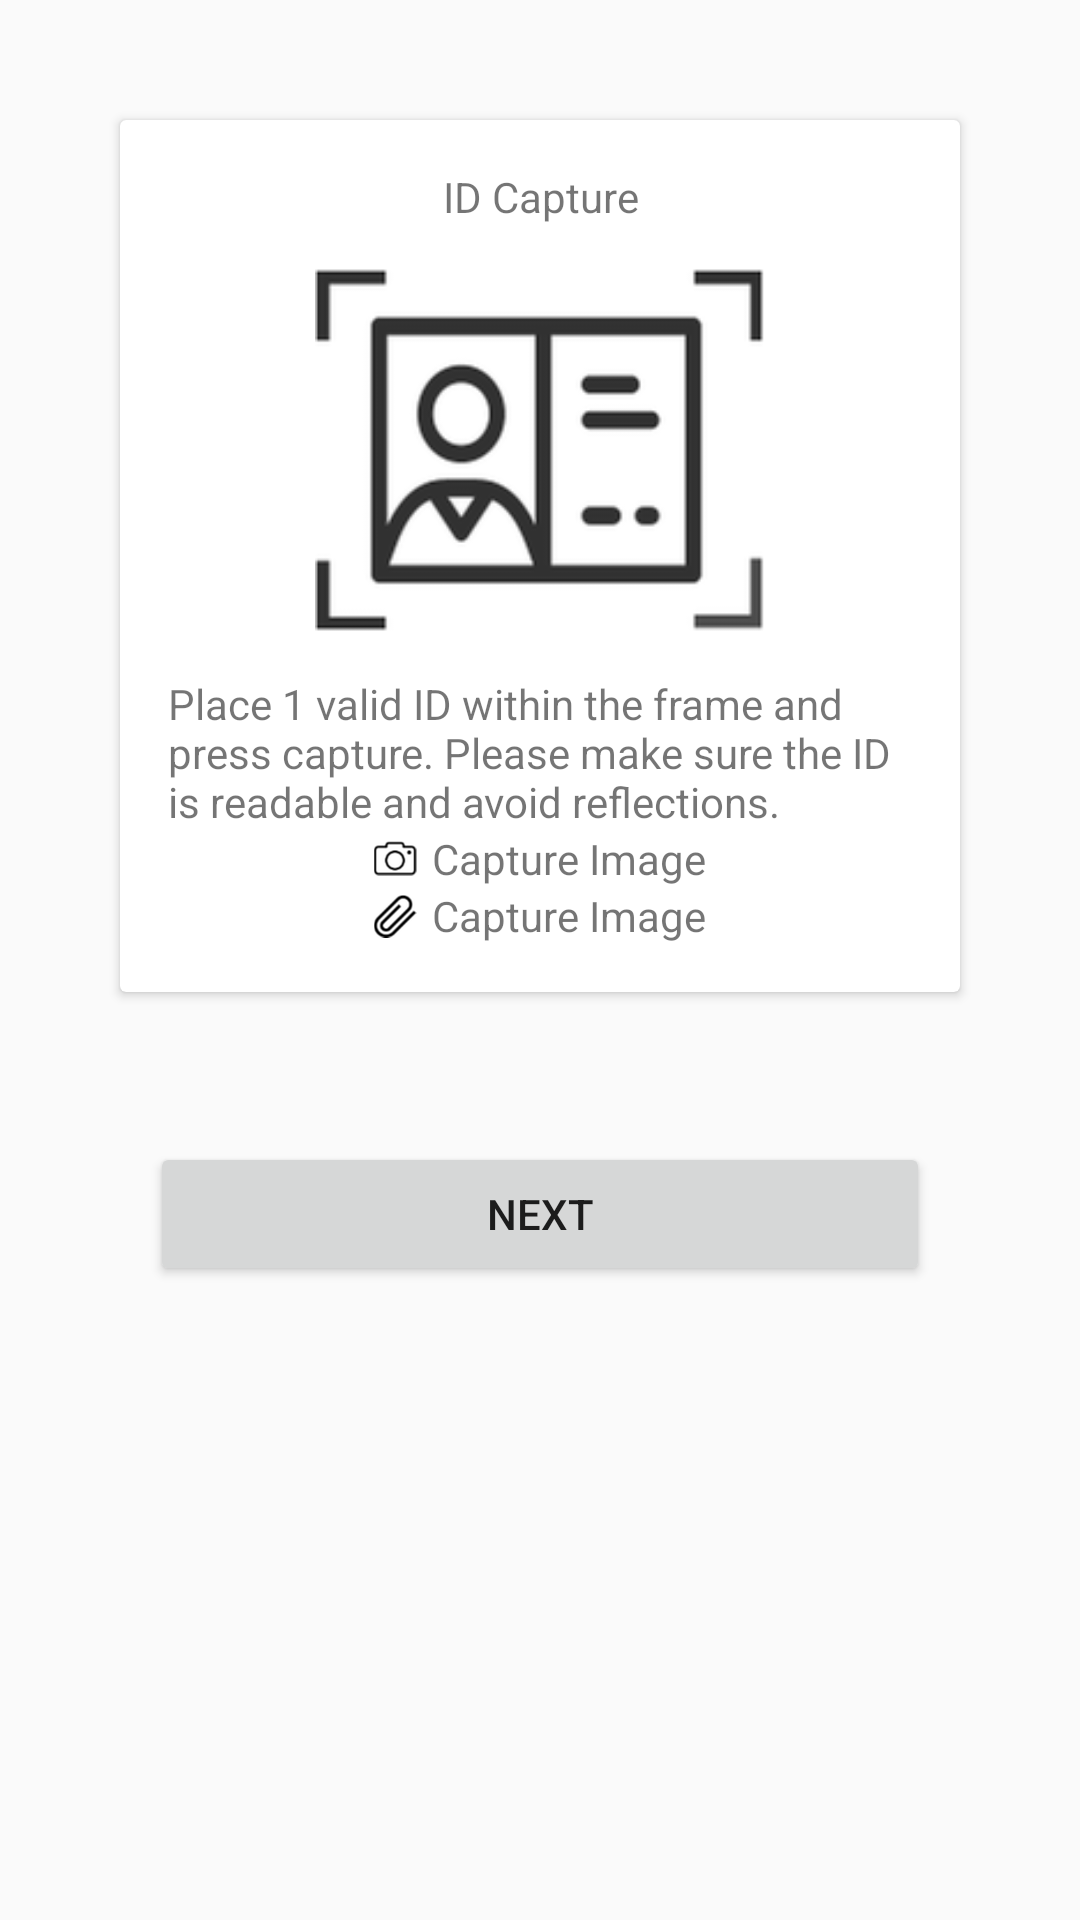

Screen size 1080px×1920px. Icon name, then its center in pixels as (x,y):
attach: (395,916)
camera: (395,858)
